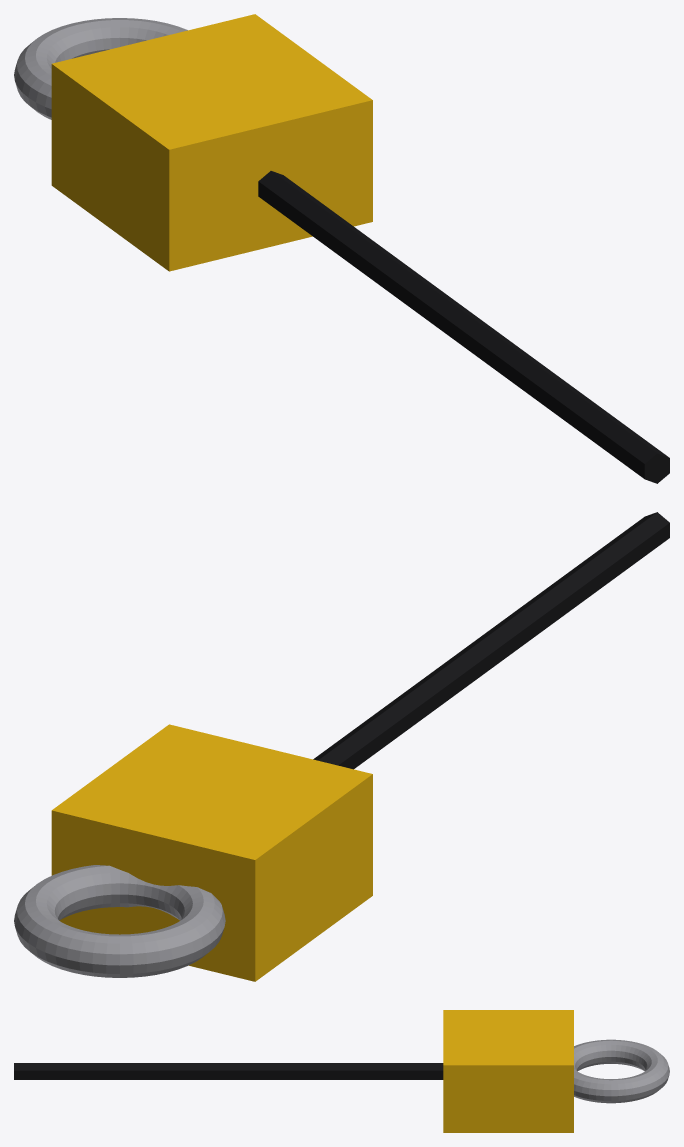
File: crane_hook.glb
3 views of the same model, one above another, from view 1: azimuth 30°, elevation 25°; view 2: azimuth 150°, elevation 25°; view 3: azimuth 270°, elevation 25° (orthographic). The views are drawn at different scales.
Parts seen in each view (by area): view 1: crane_hook; view 2: crane_hook; view 3: crane_hook.
Boxes of the visible parts, x1,y1,x2,y2 form: crane_hook: (14,14,669,483); crane_hook: (14,512,669,981); crane_hook: (14,1010,669,1132).
Size of the model in its own units: 0.14 by 0.08 by 0.703.
